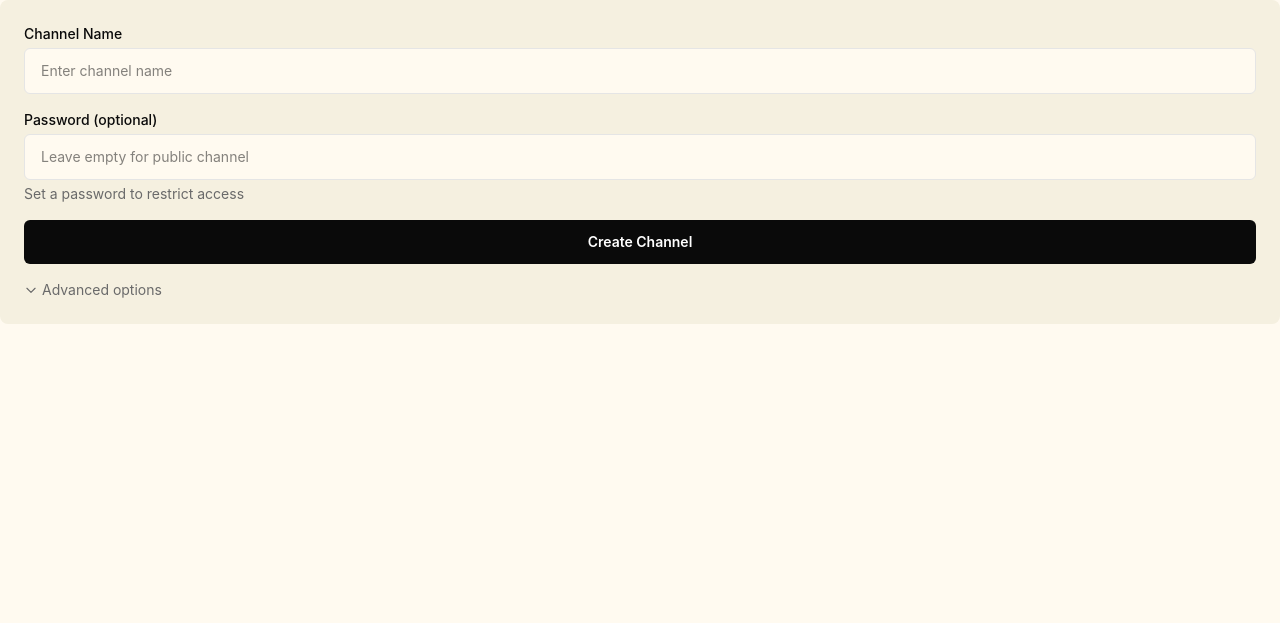
Test: CreateChannelForm › shows advanced fields when toggled
Step 1. Click the button "Advanced options" → (93, 290), box [24, 280, 162, 300]
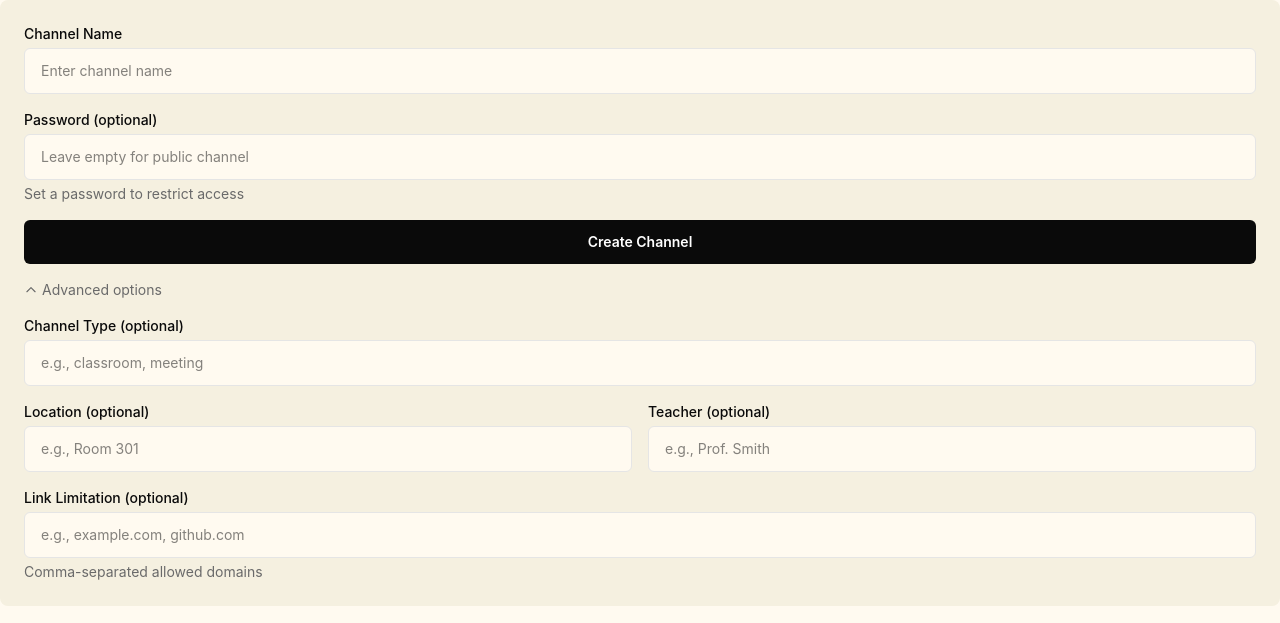
Now the field with placeholder "e.g., classroom, meeting" is shown, box [24, 340, 1256, 386]
Now the field with placeholder "e.g., Room 301" is shown, box [24, 426, 632, 472]
Now the field with placeholder "e.g., Prof. Smith" is shown, box [648, 426, 1256, 472]
